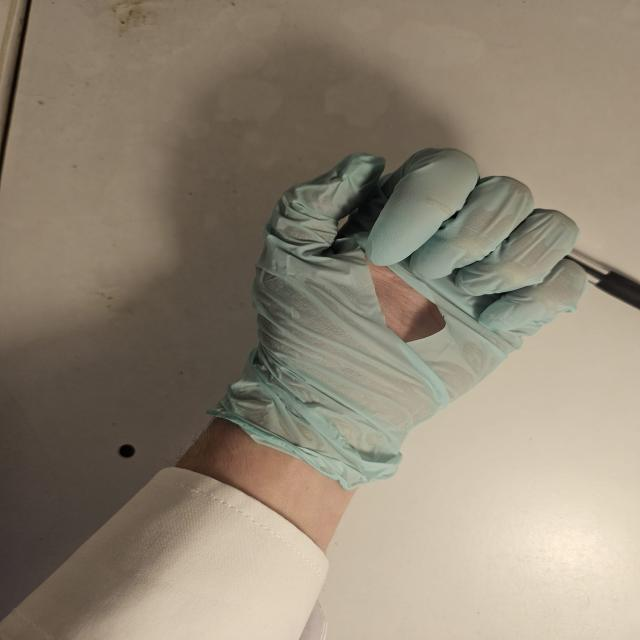gloves_damaged: (207, 138, 592, 492)
